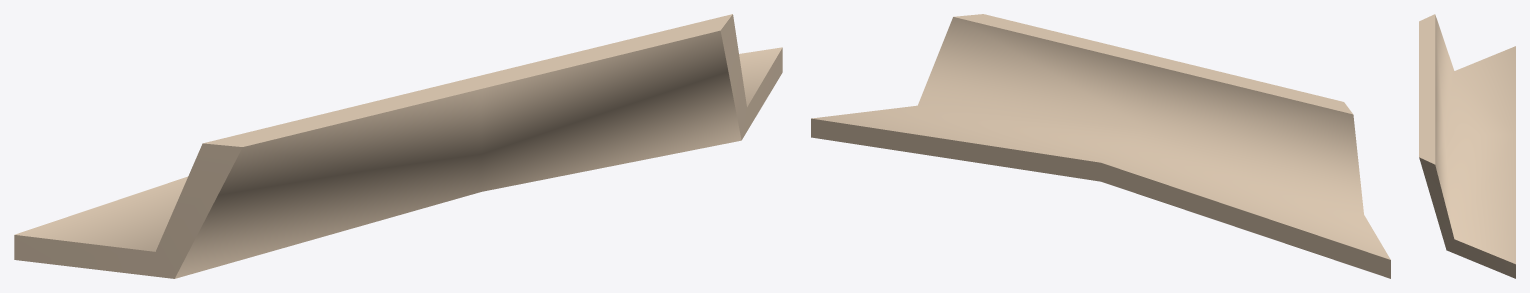
The model's file is panel_deco.fbx.
3 views of the same model, side by side, from view 1: azimuth 30°, elevation 25°; view 2: azimuth 150°, elevation 25°; view 3: azimuth 270°, elevation 25° (orthographic). The views are drawn at different scales.
Parts seen in each view (by area): view 1: panel_deco; view 2: panel_deco; view 3: panel_deco.
Part boxes in pixels (x1,y1,x2,y2): panel_deco: (14, 14, 782, 278); panel_deco: (811, 14, 1390, 278); panel_deco: (1419, 14, 1515, 278).
Bounding box in the file's own units: 160 × 27.5 × 30.
